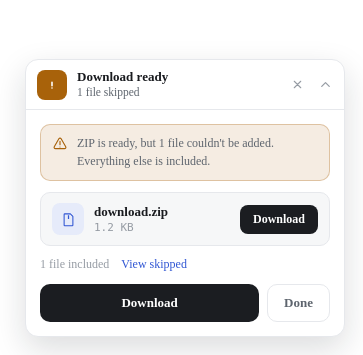
Scenario: EazipTray › shows partial state with banner and skipped list toggle
The width and height of the screenshot is (363, 355).
expect the text "1 file skipped" is shown: met, box [77, 86, 140, 98]
expect the text "couldn't be added" is shown: met, box [77, 136, 274, 168]
What coordinates should you click on to do the following:
click the button "View skipped"
I would click on:
 (154, 264)
Its box is [121, 257, 187, 272].
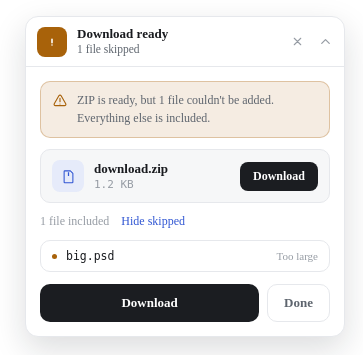
expect the text "big.psd" is shown: met, box [66, 249, 114, 263]
expect the text "Too large" is shown: met, box [276, 250, 318, 262]
What coordinates should you click on to do the following:
click the button "Hide skipped"
I would click on:
 (153, 222)
Its box is [121, 214, 185, 229].
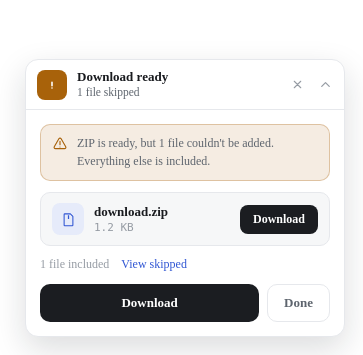
expect the text "big.psd" is gone: met
